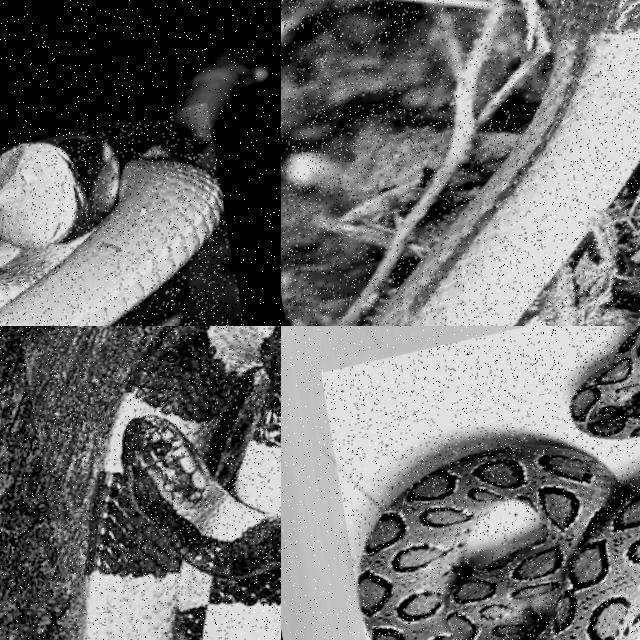Bungarus fasciatus: (84, 326, 280, 639)
Calliophis maculiceps: (372, 0, 639, 325)
Daboia siamensis: (358, 445, 639, 639)
Trimeresurus macrops: (0, 143, 222, 325)
snake: (372, 0, 639, 325), (84, 326, 280, 639), (358, 445, 639, 639), (0, 143, 222, 325)
